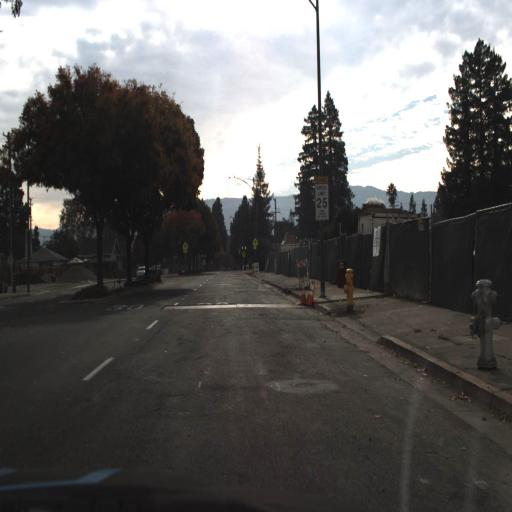car: (134, 264, 148, 276)
